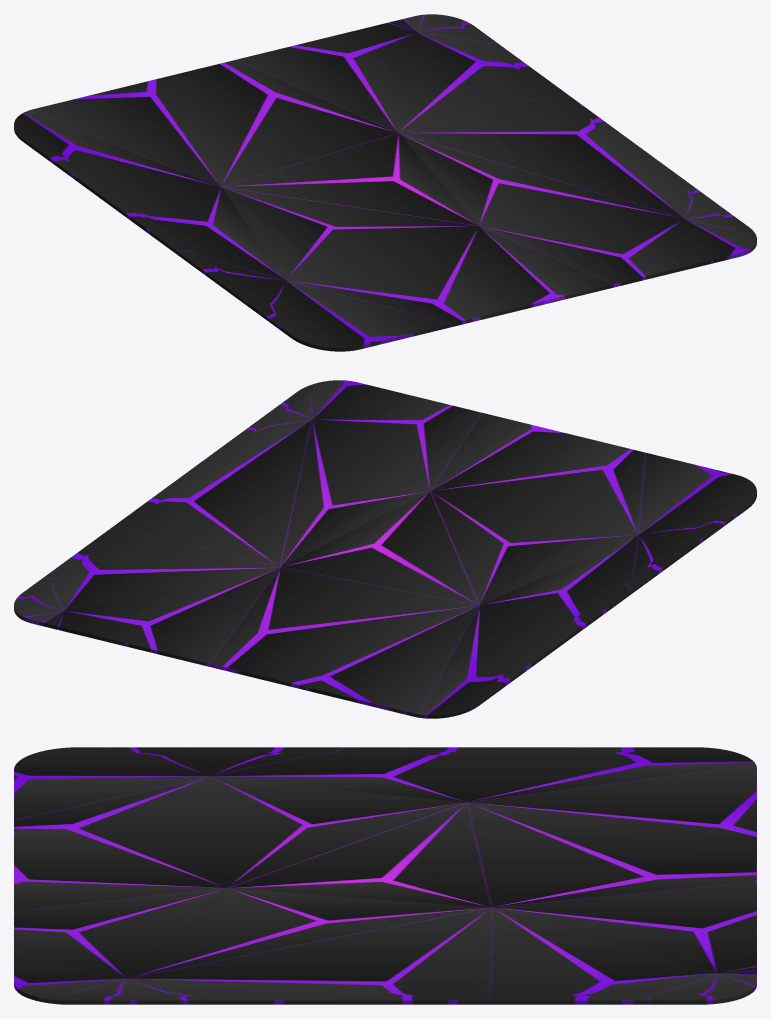
The model's file is mousepad.glb.
3 renders of one model, top to bottom at view 1: azimuth 30°, elevation 25°; view 2: azimuth 150°, elevation 25°; view 3: azimuth 270°, elevation 25°, orthographic. The views are drawn at different scales.
Visible parts, largest first — view 1: Plane; view 2: Plane; view 3: Plane.
Part boxes in pixels (box(x1,y1,x2,y2)): Plane: box(14, 14, 756, 351); Plane: box(14, 380, 756, 718); Plane: box(14, 747, 756, 1004).
Size of the model in its own units: 2.49 by 0.0182 by 3.08.
1 material, 1 textured.
